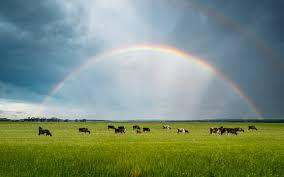cow: (220, 128, 242, 137), (37, 126, 54, 137), (77, 127, 92, 135), (210, 125, 222, 135), (161, 124, 175, 131), (175, 128, 190, 134), (246, 125, 260, 131), (139, 126, 152, 132), (131, 124, 142, 131), (113, 128, 127, 133), (117, 123, 126, 130), (108, 125, 116, 131), (135, 130, 144, 135)
